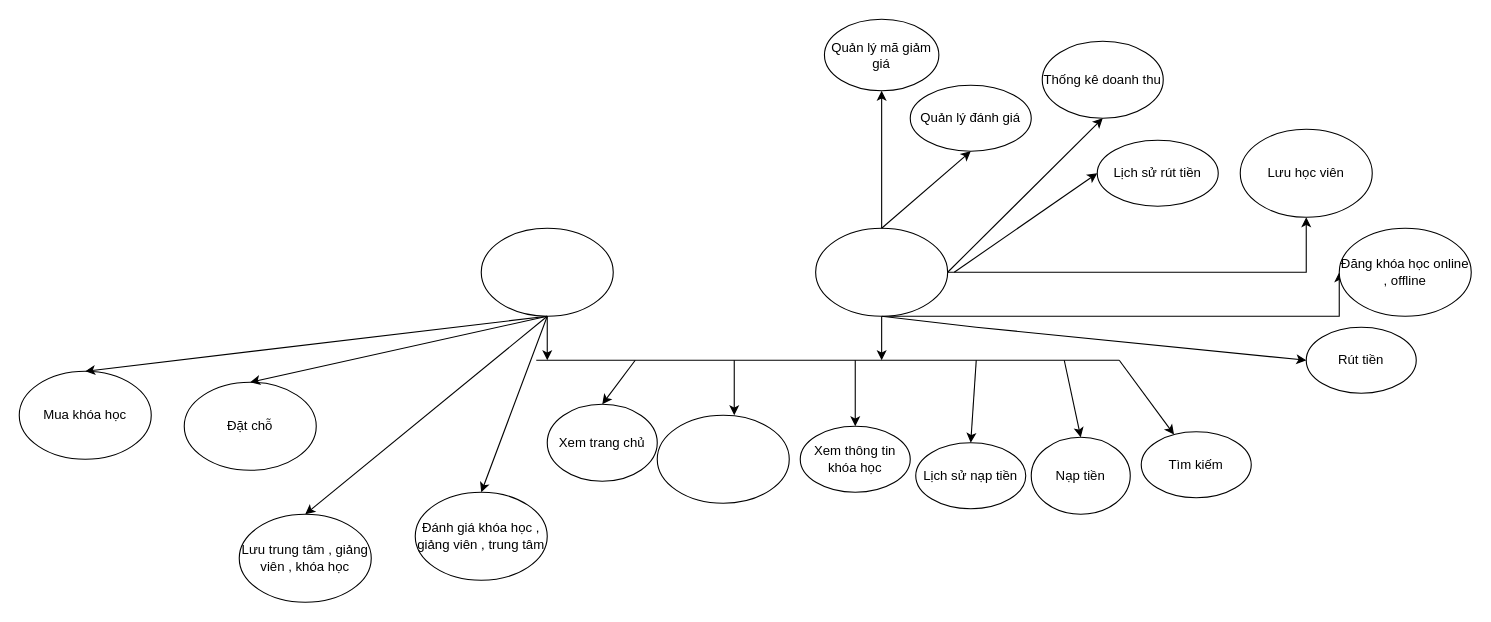
This 1491x622 diagram has some shape labels left out. The box of each missing label's shape, as (x1, y1, x2, y2) in pixels:
Giảng viên , trung tâm: (815, 227, 948, 316)
Học viên: (480, 227, 613, 316)
Đăng ký , đăng nhập quên mật khẩu: (656, 414, 789, 503)
